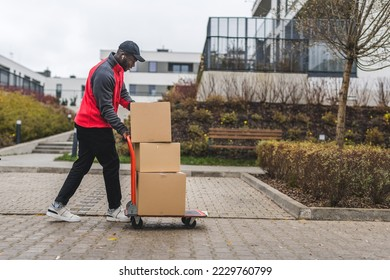DeliveryBox: (126, 99, 199, 220)
Person: (50, 38, 139, 240)
